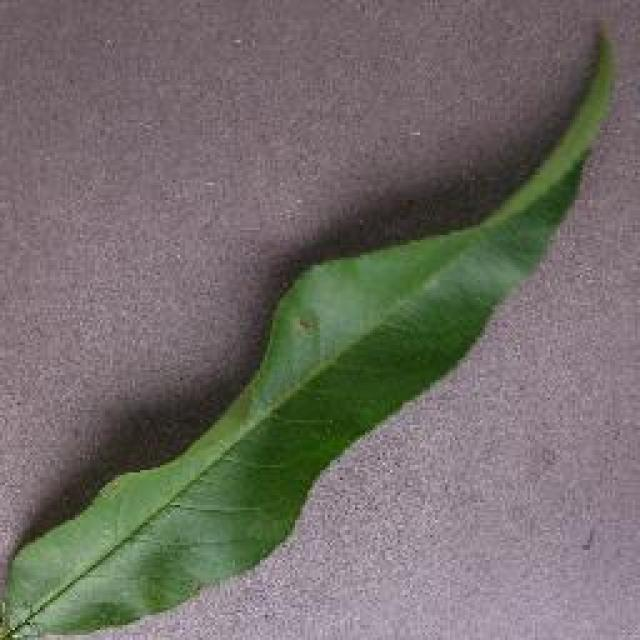Peach_Bacterial_Spot: (257, 258, 378, 395)
